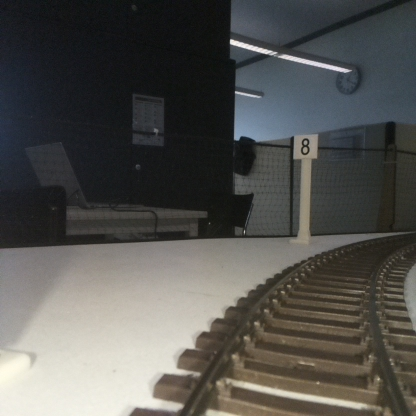white-info-8: (293, 136, 317, 243)
